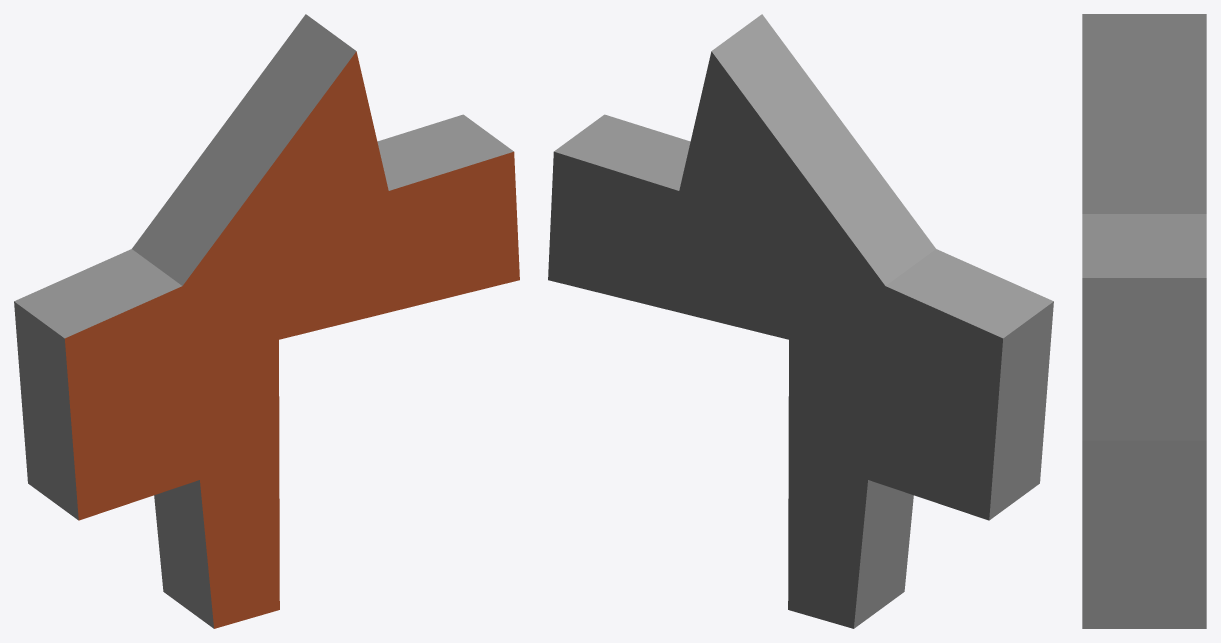
File: construction_4299_assumed_A_Casa_h6m.obj
3 renders of one model, left to right at view 1: azimuth 30°, elevation 25°; view 2: azimuth 150°, elevation 25°; view 3: azimuth 270°, elevation 25°, orthographic. The views are drawn at different scales.
Visible parts, largest first — view 1: construction_4299_assumed_A_Casa; view 2: construction_4299_assumed_A_Casa; view 3: construction_4299_assumed_A_Casa.
Part boxes in pixels (x1,y1,x2,y2): construction_4299_assumed_A_Casa: (14, 14, 519, 628); construction_4299_assumed_A_Casa: (548, 14, 1053, 628); construction_4299_assumed_A_Casa: (1082, 14, 1206, 628).
Bounding box in the file's own units: 31.06 × 35.41 × 6.
